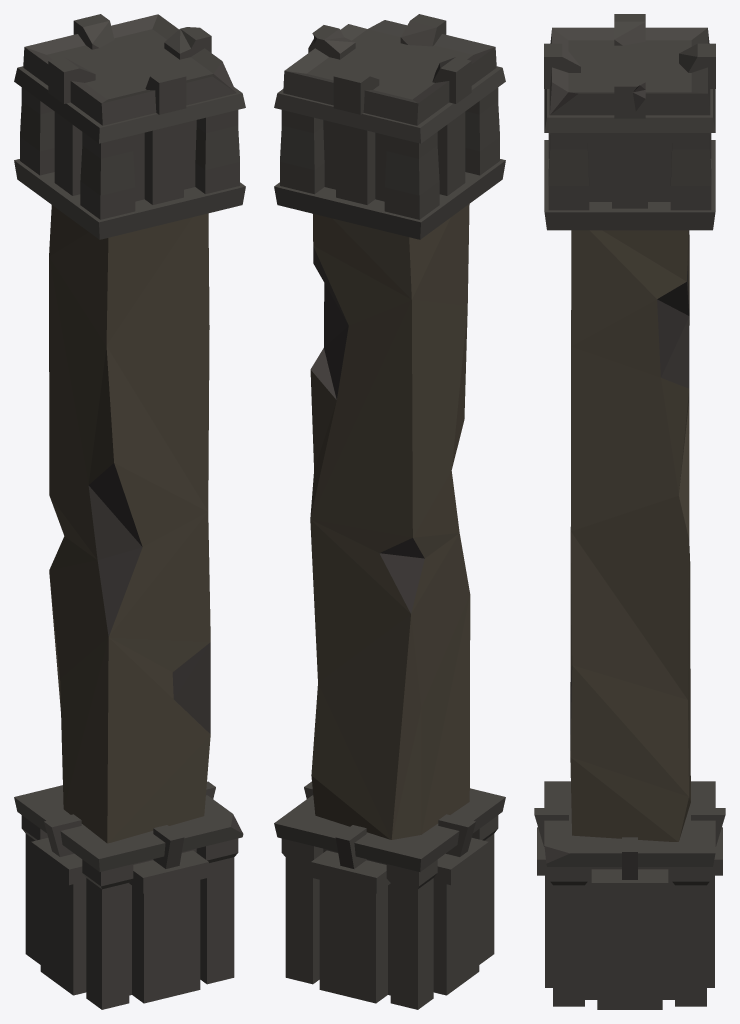
Rendered from Pillar_1B_LOD.fbx.
The picture shows the model from 3 angles, left to right: view 1: azimuth 30°, elevation 25°; view 2: azimuth 150°, elevation 25°; view 3: azimuth 270°, elevation 25°; orthographic projection.
Visible parts, largest first — view 1: polySurface1338; view 2: polySurface1338; view 3: polySurface1338.
Part boxes in pixels (x1,y1,x2,y2): polySurface1338: (14, 14, 245, 1009); polySurface1338: (274, 14, 505, 1009); polySurface1338: (534, 14, 725, 1009).
Size of the model in its own units: 2.04 by 10.86 by 2.04.
